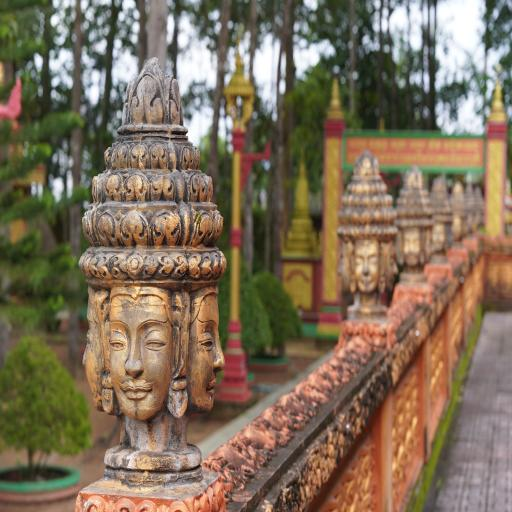than: (71, 62, 244, 494), (334, 144, 405, 335), (99, 281, 178, 423), (178, 273, 228, 418), (72, 282, 114, 416), (394, 158, 434, 283), (427, 166, 456, 258), (349, 233, 382, 297), (447, 173, 472, 247), (379, 235, 400, 299), (336, 234, 354, 293)
